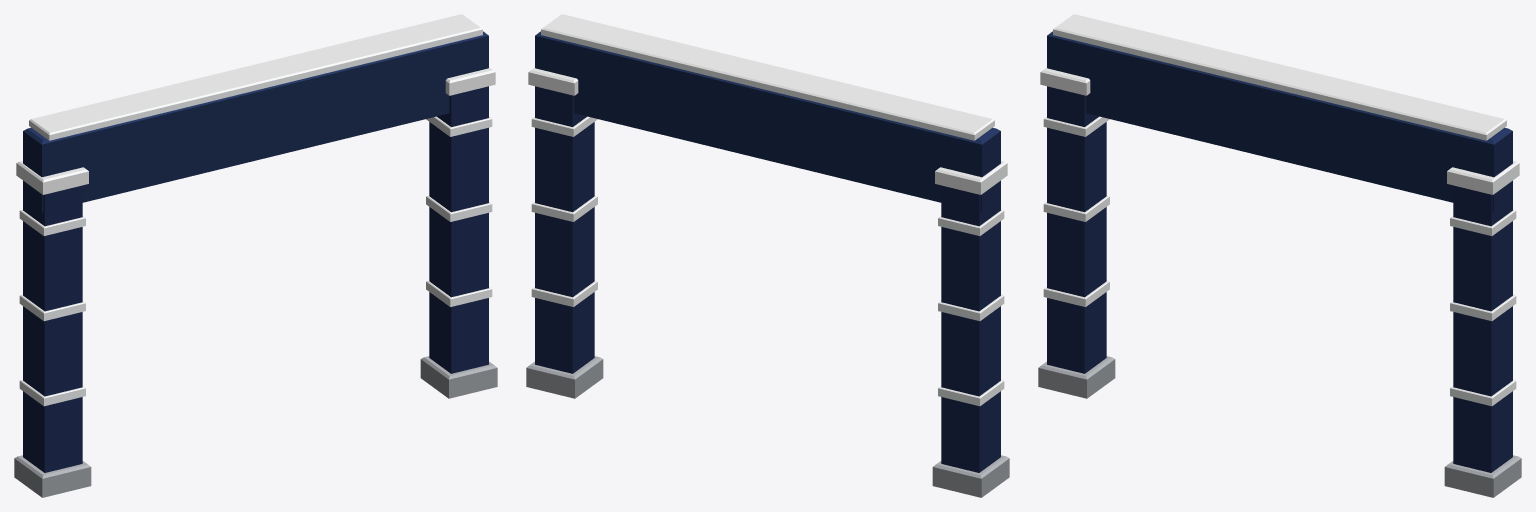
The model's file is EntranceGate.glb.
The picture shows the model from 3 angles, left to right: view 1: azimuth 30°, elevation 25°; view 2: azimuth 150°, elevation 25°; view 3: azimuth 330°, elevation 25°; orthographic projection.
Visible parts, largest first — view 1: EntranceGate; view 2: EntranceGate; view 3: EntranceGate.
Boxes of the visible parts, x1,y1,x2,y2 form: EntranceGate: (14,14,497,497); EntranceGate: (526,14,1009,497); EntranceGate: (1038,14,1521,497).
Bounding box in the file's own units: 33.6 × 25.3 × 3.6.
2 materials, 1 textured.
